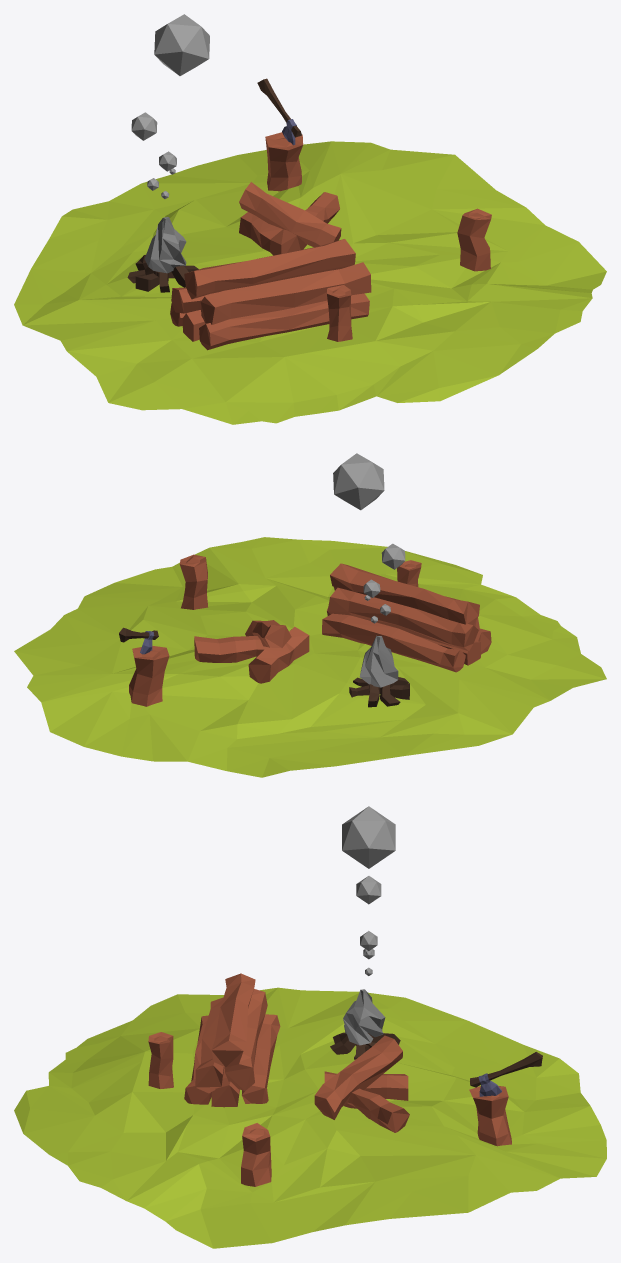
The model's file is logs.FBX.
3 views of the same model, one above another, from view 1: azimuth 30°, elevation 25°; view 2: azimuth 150°, elevation 25°; view 3: azimuth 270°, elevation 25° (orthographic). The views are drawn at different scales.
Visible parts, largest first — view 1: plane_3, Cylinder088, Cylinder089, Cylinder084, Cylinder096, GeoSphere093, Cylinder083, Cylinder002, GeoSphere087, Cylinder090, Cylinder100, Cylinder087 (+2 smaller); view 2: plane_3, Cylinder087, Cylinder086, Cylinder089, GeoSphere093, Cylinder083, Cylinder091, Cylinder090, GeoSphere087, Cylinder002, Cylinder096, Cylinder100 (+1 smaller); view 3: plane_3, Cylinder096, Cylinder089, GeoSphere093, Cylinder087, Cylinder002, Cylinder083, Cylinder086, GeoSphere087, Cylinder088, Cylinder091, Cylinder100 (+4 smaller).
Boxes of the visible parts, x1=… form: plane_3: x1=14, y1=141, x2=606, y2=424; Cylinder088: x1=200, y1=262, x2=371, y2=324; Cylinder089: x1=184, y1=239, x2=355, y2=299; Cylinder084: x1=199, y1=293, x2=369, y2=350; Cylinder096: x1=239, y1=182, x2=341, y2=247; GeoSphere093: x1=154, y1=14, x2=209, y2=75; Cylinder083: x1=265, y1=132, x2=303, y2=191; Cylinder002: x1=457, y1=208, x2=491, y2=271; GeoSphere087: x1=144, y1=217, x2=186, y2=273; Cylinder090: x1=239, y1=212, x2=305, y2=255; Cylinder100: x1=326, y1=285, x2=352, y2=341; Cylinder087: x1=171, y1=269, x2=340, y2=313; plane_3: x1=14, y1=537, x2=606, y2=777; Cylinder087: x1=327, y1=587, x2=478, y2=651; Cylinder086: x1=322, y1=613, x2=465, y2=672; Cylinder089: x1=330, y1=563, x2=479, y2=624; GeoSphere093: x1=333, y1=453, x2=384, y2=510; Cylinder083: x1=129, y1=646, x2=169, y2=706; Cylinder091: x1=194, y1=636, x2=267, y2=662; Cylinder090: x1=248, y1=626, x2=309, y2=683; GeoSphere087: x1=359, y1=635, x2=398, y2=687; Cylinder002: x1=179, y1=554, x2=208, y2=609; Cylinder096: x1=245, y1=620, x2=291, y2=648; Cylinder100: x1=397, y1=560, x2=421, y2=586; plane_3: x1=14, y1=987, x2=606, y2=1248; Cylinder096: x1=314, y1=1035, x2=402, y2=1119; Cylinder089: x1=211, y1=973, x2=255, y2=1067; GeoSphere093: x1=342, y1=806, x2=395, y2=868; Cylinder087: x1=225, y1=989, x2=267, y2=1090; Cylinder002: x1=241, y1=1123, x2=271, y2=1186; Cylinder083: x1=469, y1=1086, x2=511, y2=1146; Cylinder086: x1=242, y1=1014, x2=280, y2=1103; GeoSphere087: x1=343, y1=989, x2=385, y2=1045; Cylinder088: x1=195, y1=997, x2=224, y2=1093; Cylinder091: x1=344, y1=1088, x2=409, y2=1132; Cylinder100: x1=148, y1=1032, x2=173, y2=1088.
Bounding box in the file's own units: 218 × 111 × 221.
